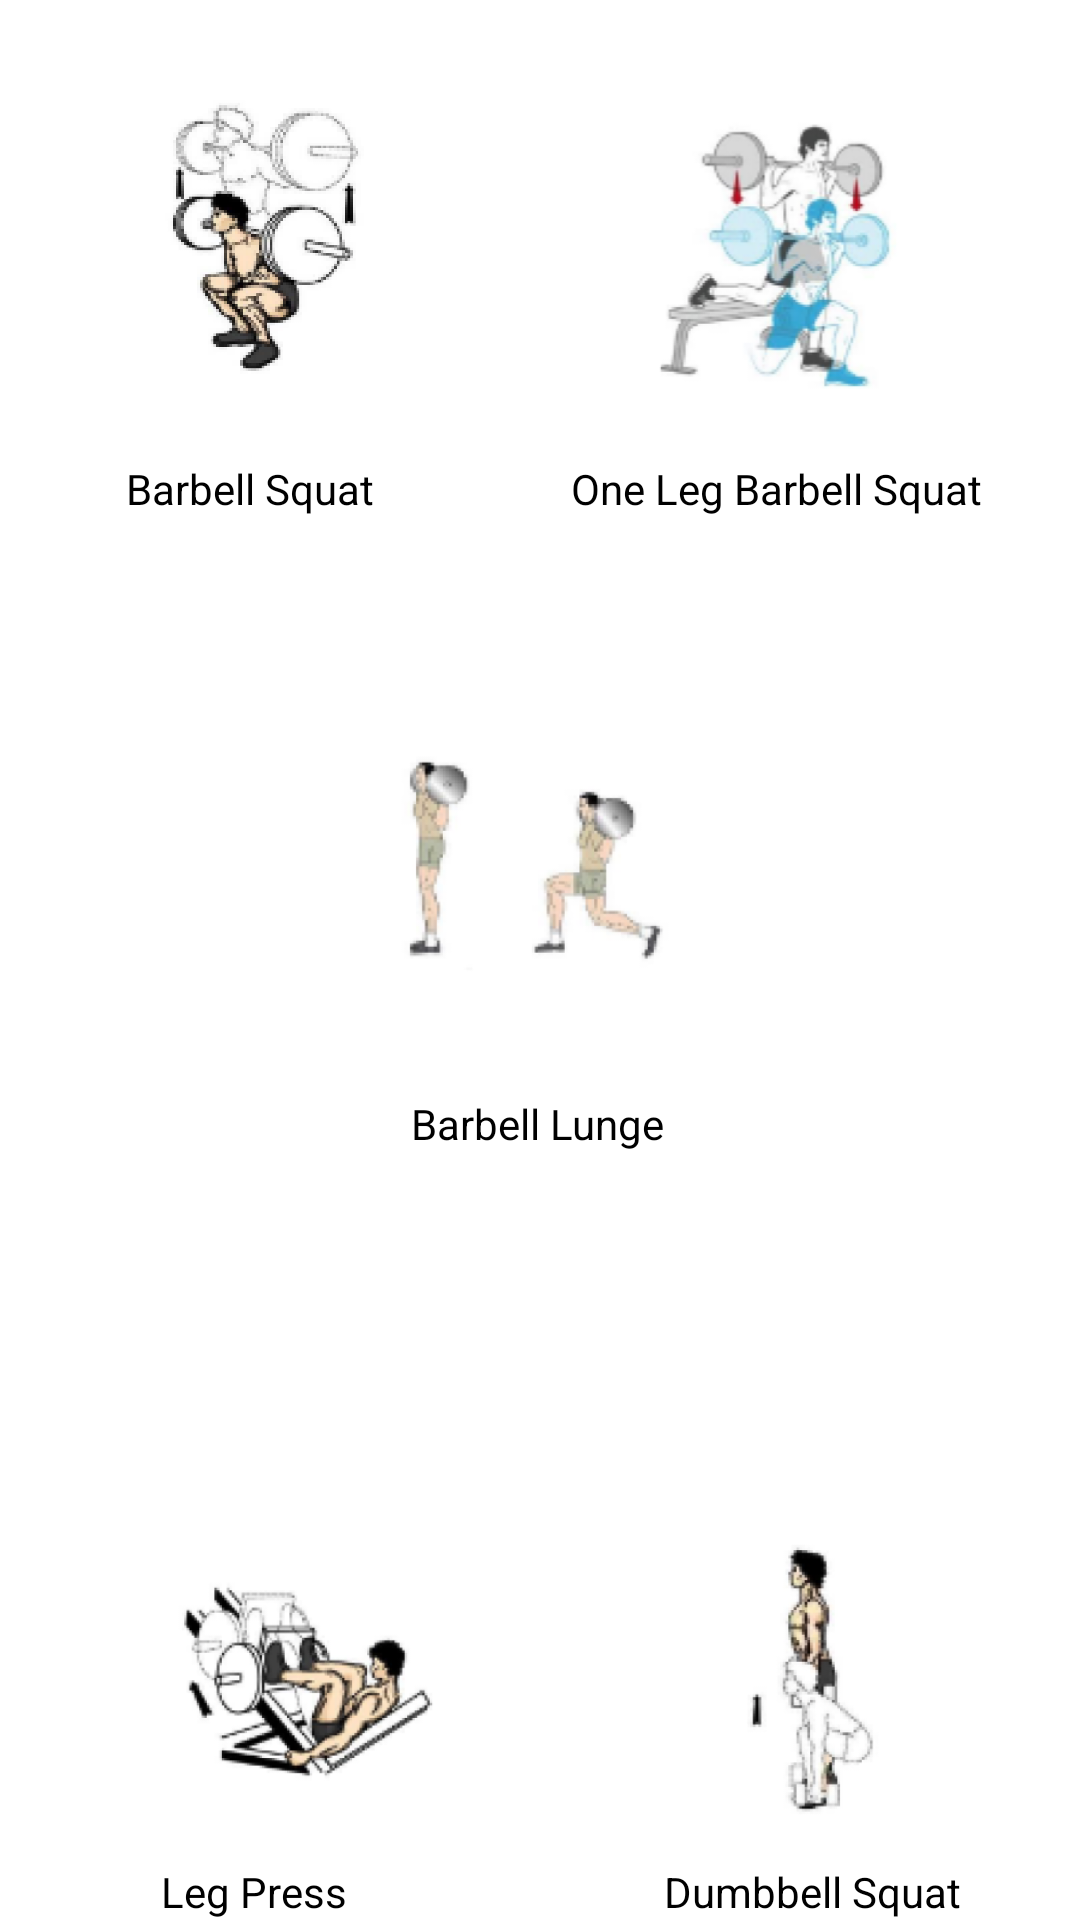

Icons on this 1080×1920 Android screen, each with the point to tap as (x=x, y=y):
pierna: (x=265, y=238), (x=775, y=256), (x=536, y=860), (x=812, y=1679), (x=308, y=1681)
